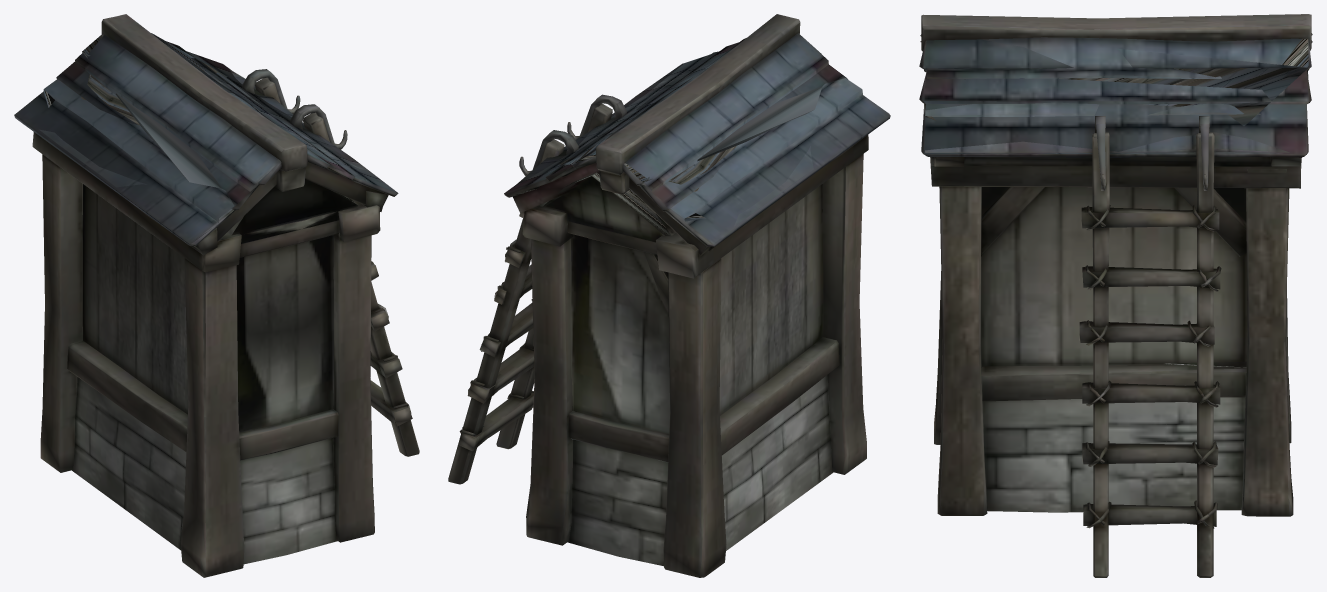
The model's file is obj_ladder.glb.
3 renders of one model, left to right at view 1: azimuth 30°, elevation 25°; view 2: azimuth 150°, elevation 25°; view 3: azimuth 270°, elevation 25°, orthographic. The views are drawn at different scales.
Visible parts, largest first — view 1: model; view 2: model; view 3: model.
Boxes of the visible parts, <box> form: model: <box>14,14,419,577</box>; model: <box>448,14,890,577</box>; model: <box>919,14,1312,577</box>.
Bounding box in the file's own units: 0.7769 × 1 × 0.7926.
1 material, 1 textured.
